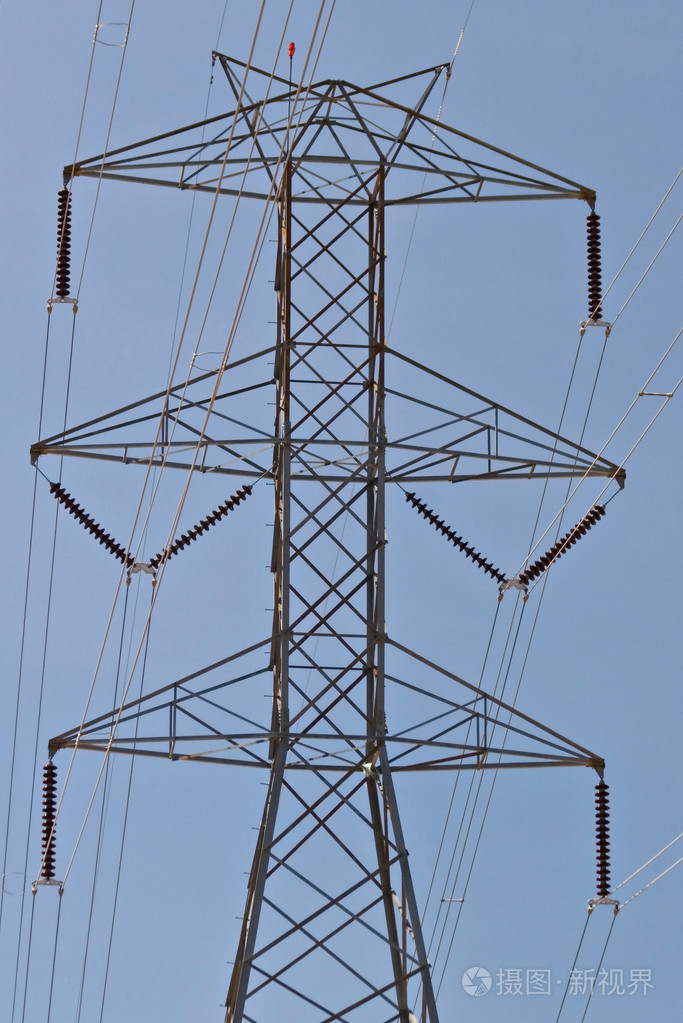insulator: (404, 492, 509, 584), (47, 481, 138, 562), (156, 488, 247, 567), (517, 508, 607, 585), (37, 759, 64, 881), (592, 781, 617, 895), (51, 188, 72, 295), (586, 209, 607, 314)
